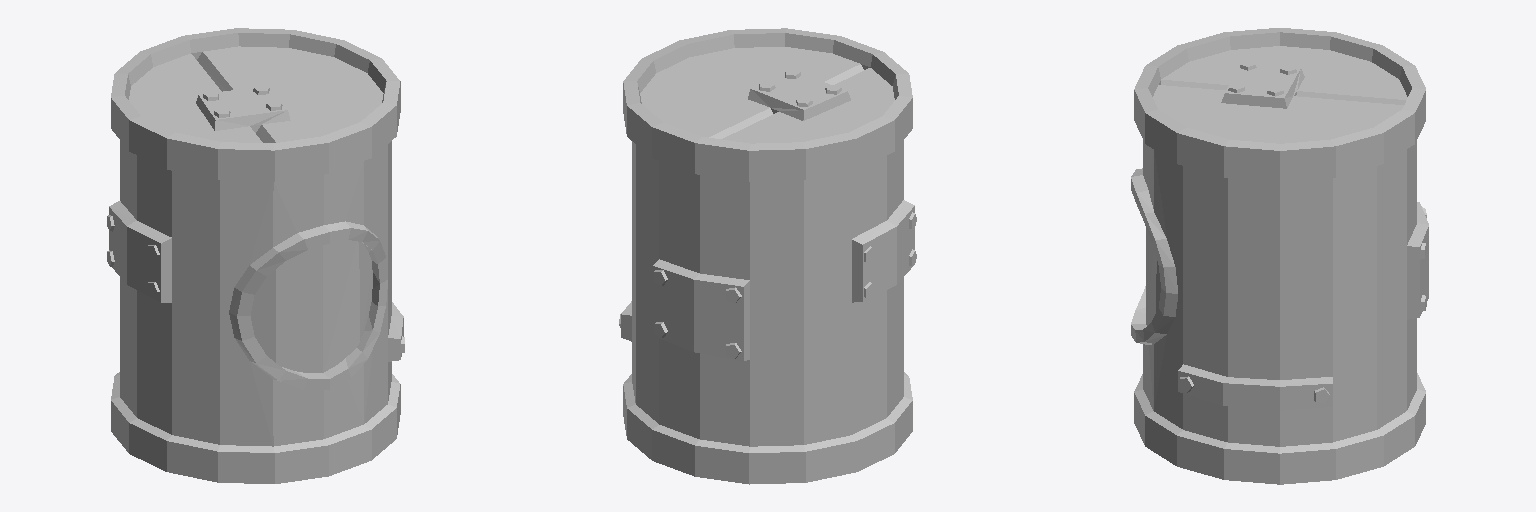
Rendered from Toxic Drum.obj.
The picture shows the model from 3 angles: view 1: azimuth 30°, elevation 25°; view 2: azimuth 150°, elevation 25°; view 3: azimuth 270°, elevation 25°; orthographic projection.
Parts seen in each view (by area): view 1: Mesh_0007; view 2: Mesh_0007; view 3: Mesh_0007.
Part boxes in pixels (x1,y1,x2,y2): Mesh_0007: (107,28,404,483); Mesh_0007: (619,28,916,484); Mesh_0007: (1131,28,1428,484).
Bounding box in the file's own units: 1.09 × 1.36 × 1.09.